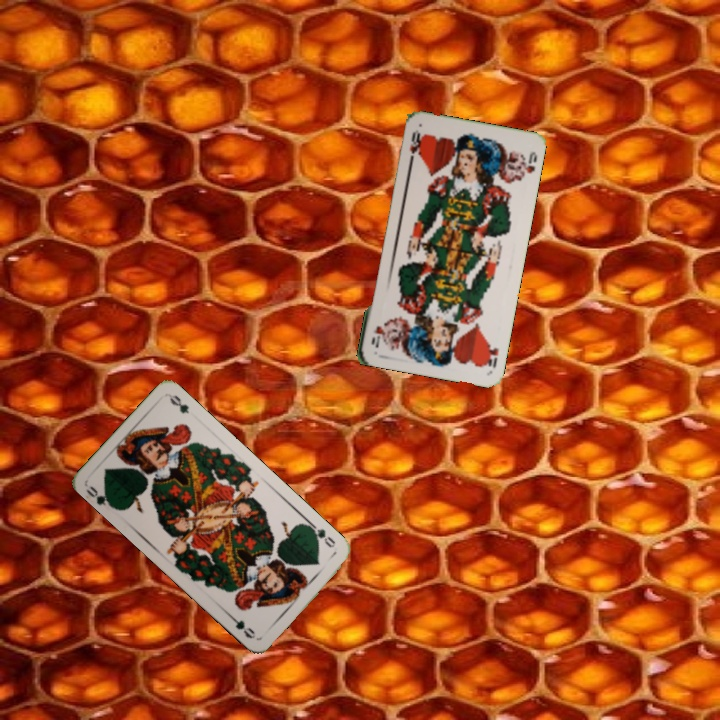GO: (82, 482, 118, 511), (305, 519, 338, 550)
HO: (481, 338, 501, 371), (406, 126, 421, 165)
